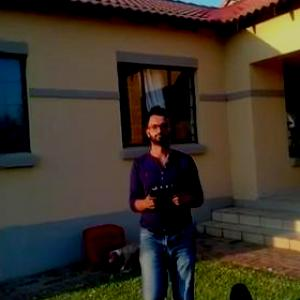follow: (123, 100, 211, 299)
null: (106, 235, 143, 273)
